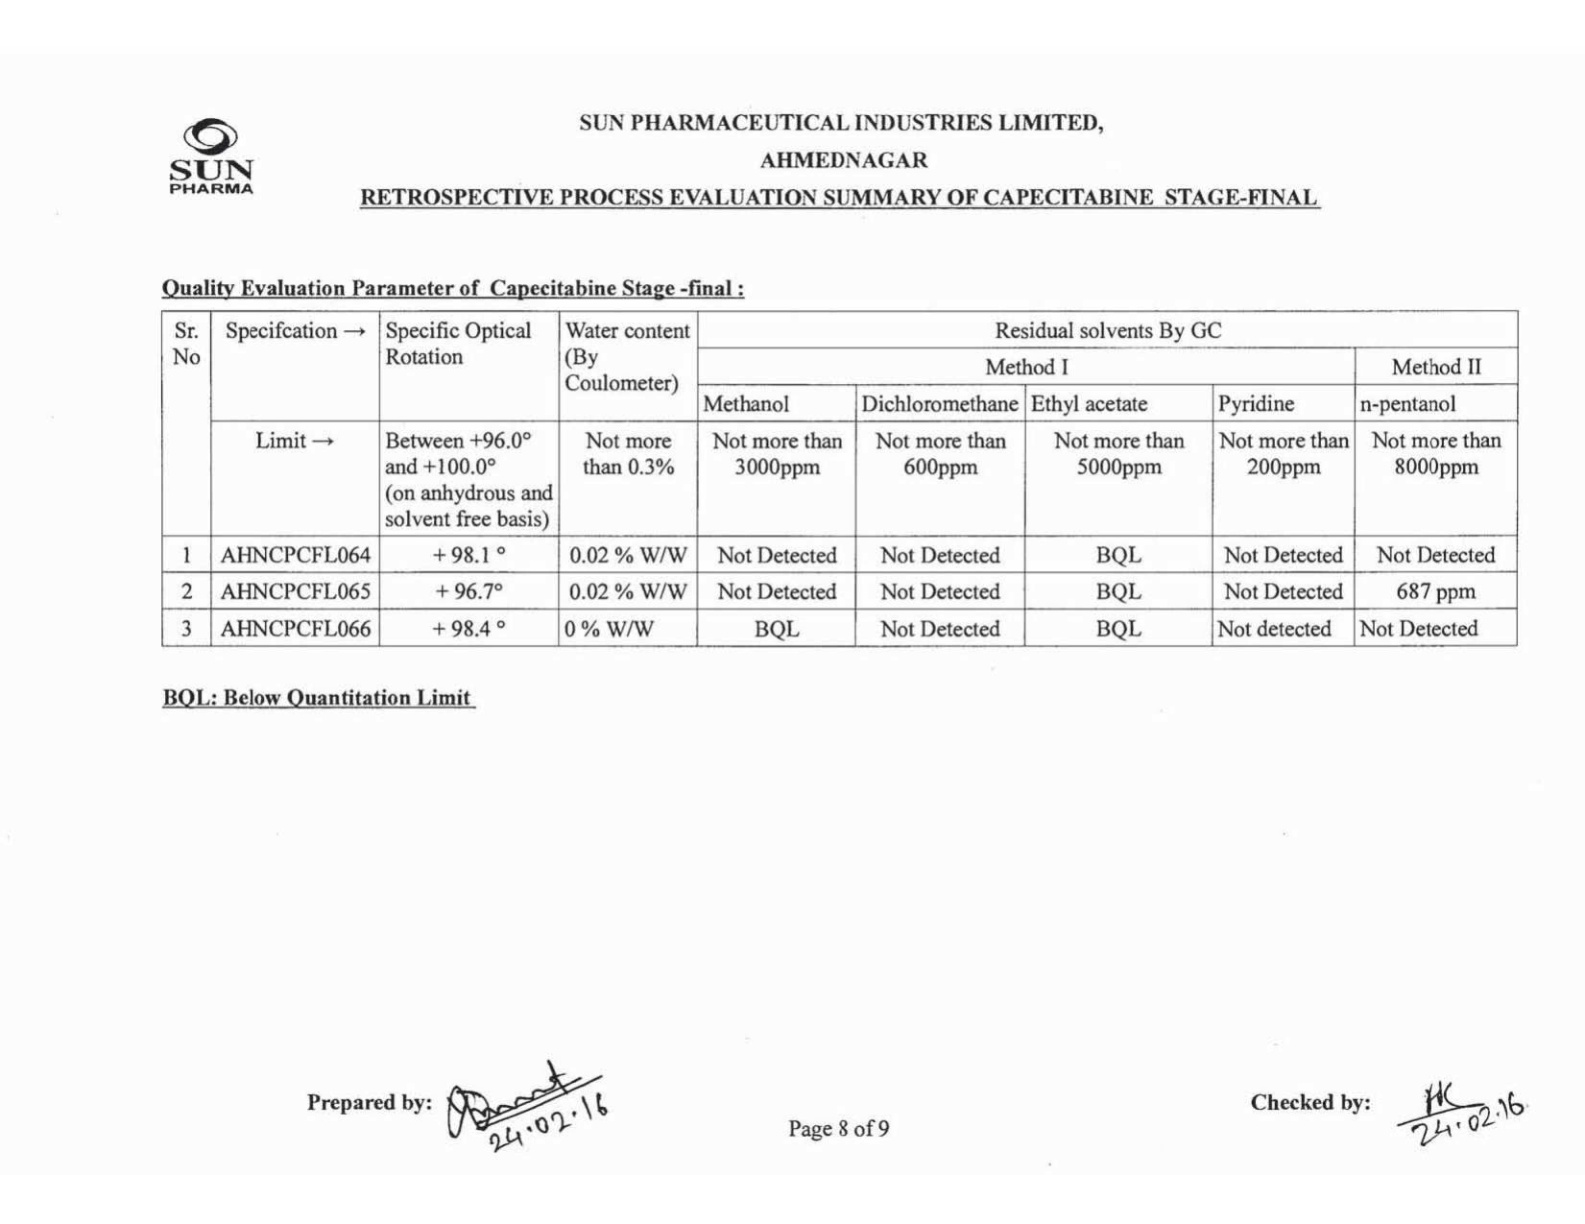merged_cells: (159, 309, 1519, 647)
